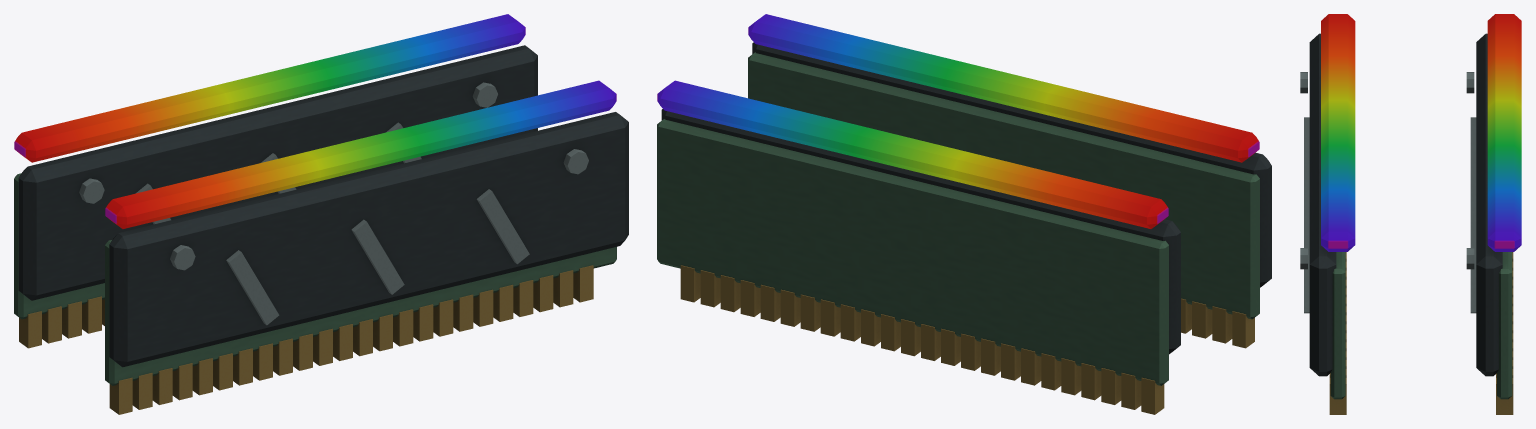
File: ram_pair.glb
3 renders of one model, left to right at view 1: azimuth 30°, elevation 25°; view 2: azimuth 150°, elevation 25°; view 3: azimuth 270°, elevation 25°, orthographic. The views are drawn at different scales.
Visible parts, largest first — view 1: ram_pair; view 2: ram_pair; view 3: ram_pair.
Boxes of the visible parts, x1,y1,x2,y2 form: ram_pair: (14, 14, 628, 414); ram_pair: (657, 14, 1271, 414); ram_pair: (1300, 14, 1521, 414).
Size of the model in its own units: 0.144 by 0.0555 by 0.0585.
Materials: 3 (3 with a texture image).
